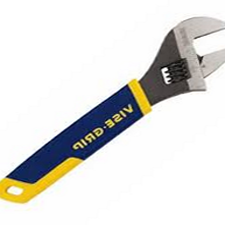wrench: (10, 13, 225, 205)
